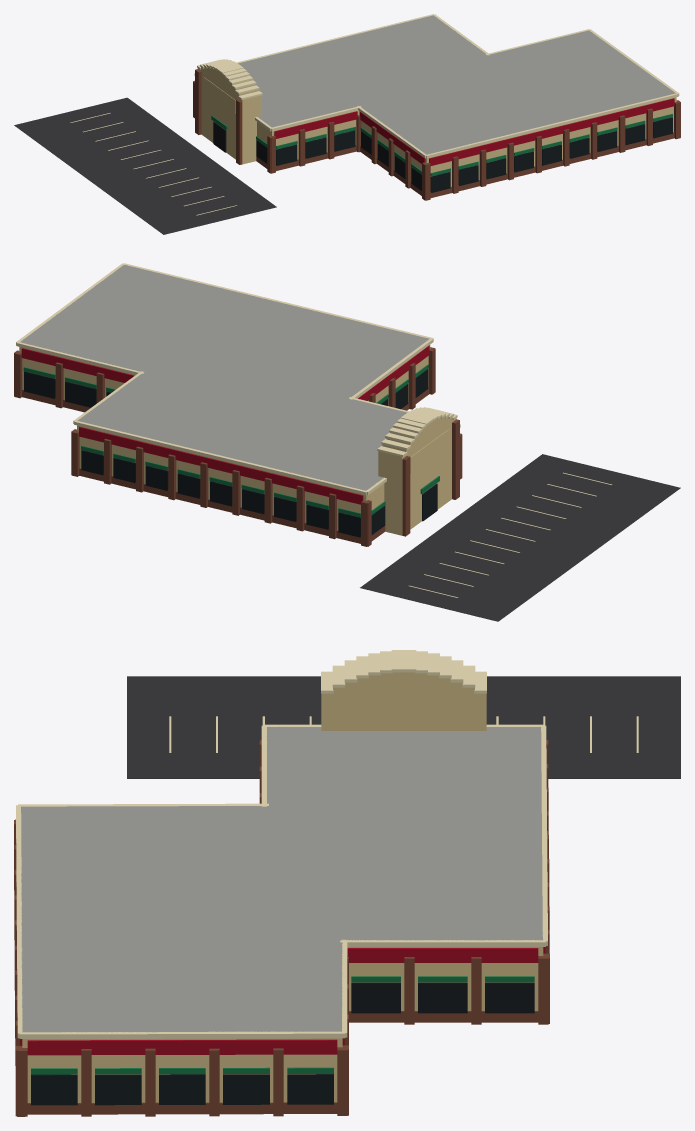
The model's file is m_pizzahut.glb.
3 renders of one model, top to bottom at view 1: azimuth 30°, elevation 25°; view 2: azimuth 150°, elevation 25°; view 3: azimuth 270°, elevation 25°, orthographic. The views are drawn at different scales.
Parts seen in each view (by area): view 1: m_pizzahut_lod0; view 2: m_pizzahut_lod0; view 3: m_pizzahut_lod0.
Boxes of the visible parts, x1=… form: m_pizzahut_lod0: x1=14, y1=14, x2=680, y2=234; m_pizzahut_lod0: x1=14, y1=263, x2=680, y2=621; m_pizzahut_lod0: x1=14, y1=650, x2=680, y2=1116.
Size of what is drawn, in the model's own units: 60.18 by 9.19 by 38.53.
